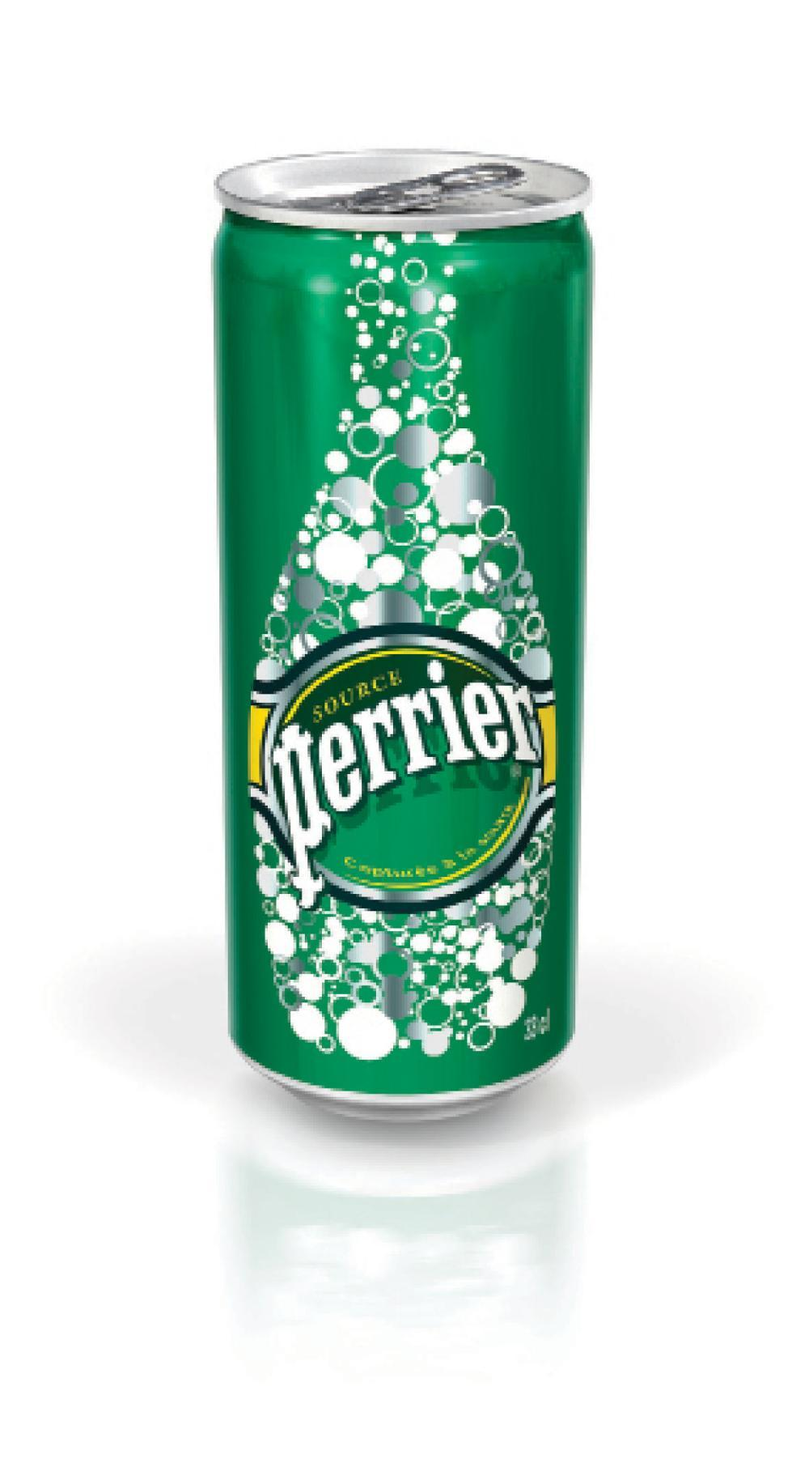metal: (214, 147, 591, 1119)
